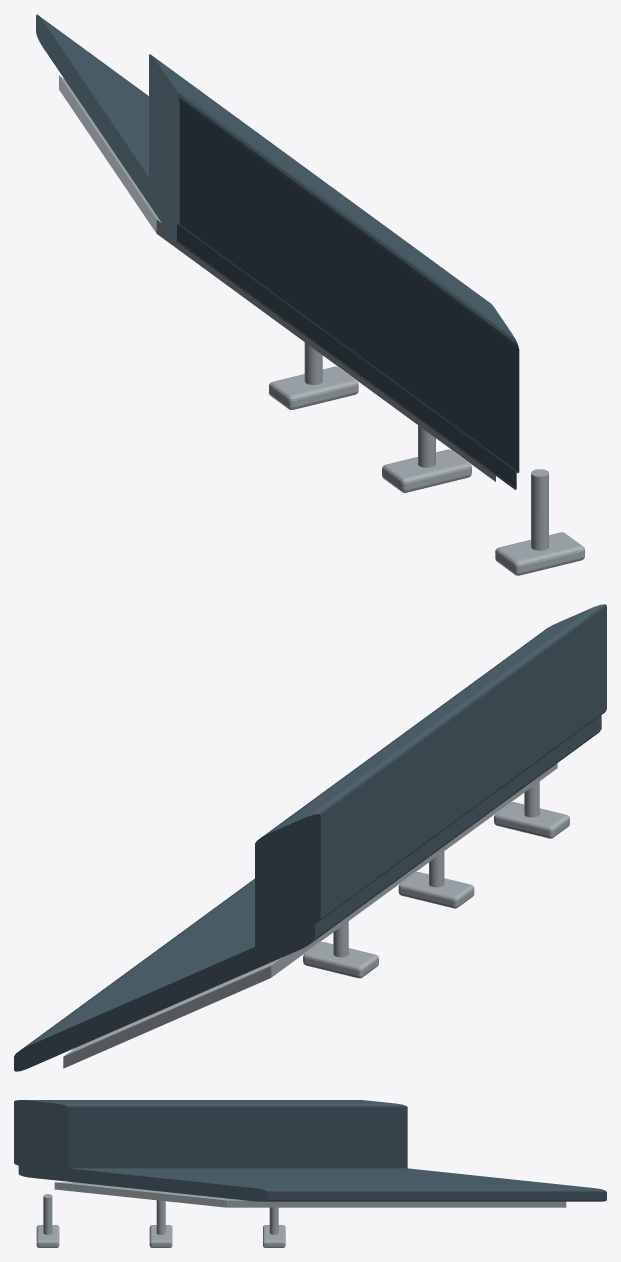
File: cabin_bench_length_300cm.glb
3 renders of one model, top to bottom at view 1: azimuth 30°, elevation 25°; view 2: azimuth 150°, elevation 25°; view 3: azimuth 270°, elevation 25°, orthographic. The views are drawn at different scales.
Parts seen in each view (by area): view 1: Bench upright back.005, Bench seat cushion.005, Bench support beam.005, Bench foot.010, Bench foot.008, Bench foot.009, Bench pedestal.008; view 2: Bench upright back.005, Bench seat cushion.005, Bench support beam.005, Bench foot.008, Bench foot.010, Bench foot.009; view 3: Bench upright back.005, Bench seat cushion.005, Bench support beam.005, Bench foot.009, Bench foot.008, Bench foot.010, Bench pedestal.008, Bench pedestal.009, Bench pedestal.010.
Boxes of the visible parts, x1,y1,x2,y2 form: Bench upright back.005: (149, 54, 519, 473); Bench seat cushion.005: (36, 14, 516, 489); Bench support beam.005: (59, 75, 495, 481); Bench foot.010: (269, 366, 358, 409); Bench foot.008: (495, 532, 584, 575); Bench foot.009: (382, 449, 471, 492); Bench pedestal.008: (531, 469, 548, 550); Bench upright back.005: (255, 604, 606, 948); Bench seat cushion.005: (14, 715, 601, 1071); Bench support beam.005: (63, 763, 557, 1068); Bench foot.008: (494, 802, 569, 838); Bench foot.010: (303, 942, 378, 978); Bench foot.009: (398, 872, 474, 908); Bench upright back.005: (14, 1100, 407, 1170); Bench seat cushion.005: (18, 1164, 606, 1201); Bench support beam.005: (54, 1182, 566, 1207); Bench foot.009: (149, 1225, 172, 1247); Bench foot.008: (36, 1225, 59, 1247); Bench foot.010: (263, 1225, 285, 1247); Bench pedestal.008: (43, 1194, 52, 1234); Bench pedestal.009: (156, 1200, 165, 1234); Bench pedestal.010: (269, 1207, 278, 1234).
Bounding box in the file's own units: 0.56 × 1.25 × 5.24.
